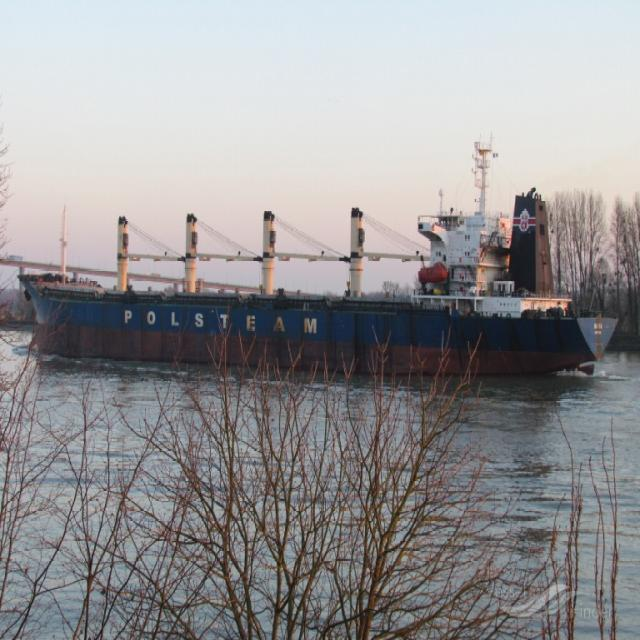Bulk Carrier: (18, 194, 619, 380)
